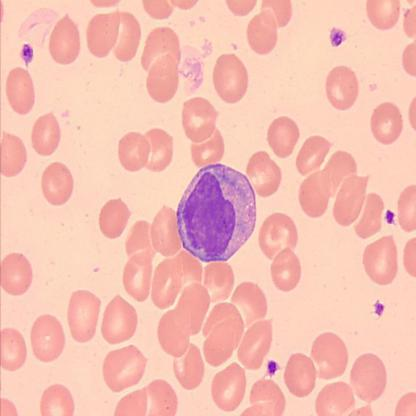Monocyte: (174, 161, 258, 266)
